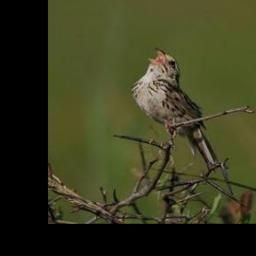Sparrow: (128, 46, 222, 176)
